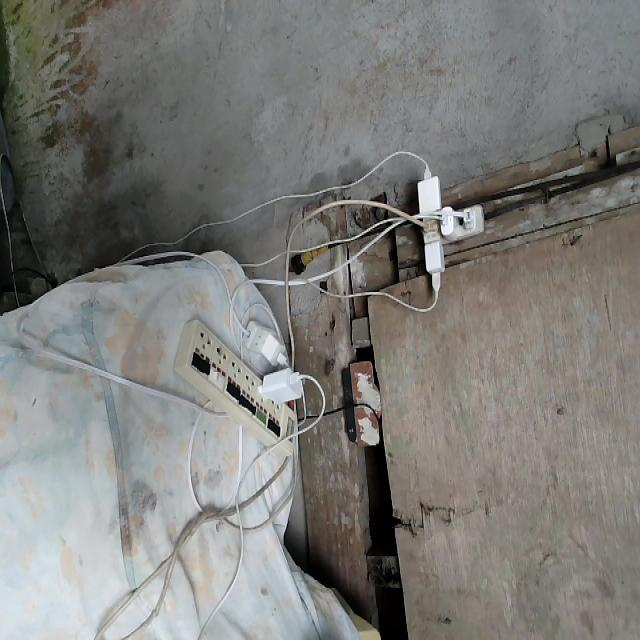-: (412, 168, 483, 284)
